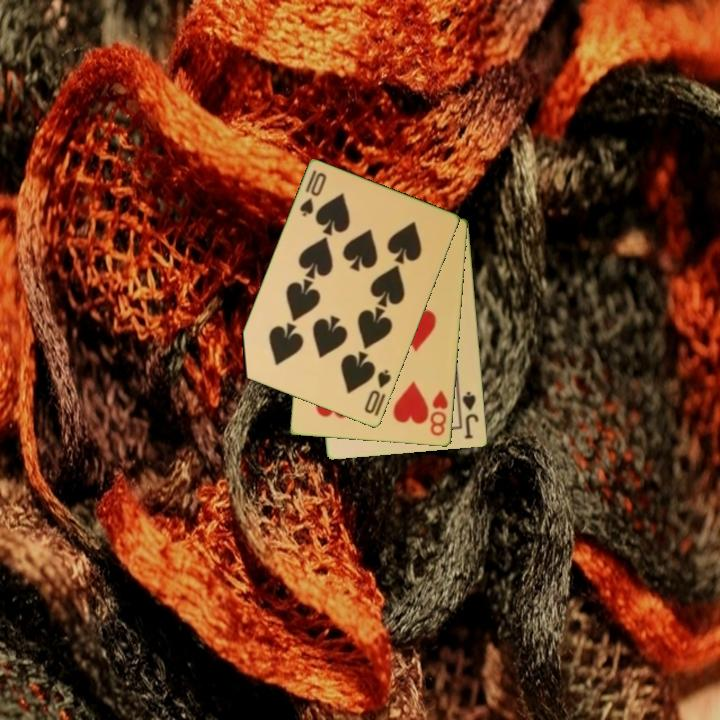10s: (296, 167, 329, 220), (361, 366, 394, 417)
8h: (427, 387, 451, 439)
Js: (459, 388, 482, 442)
